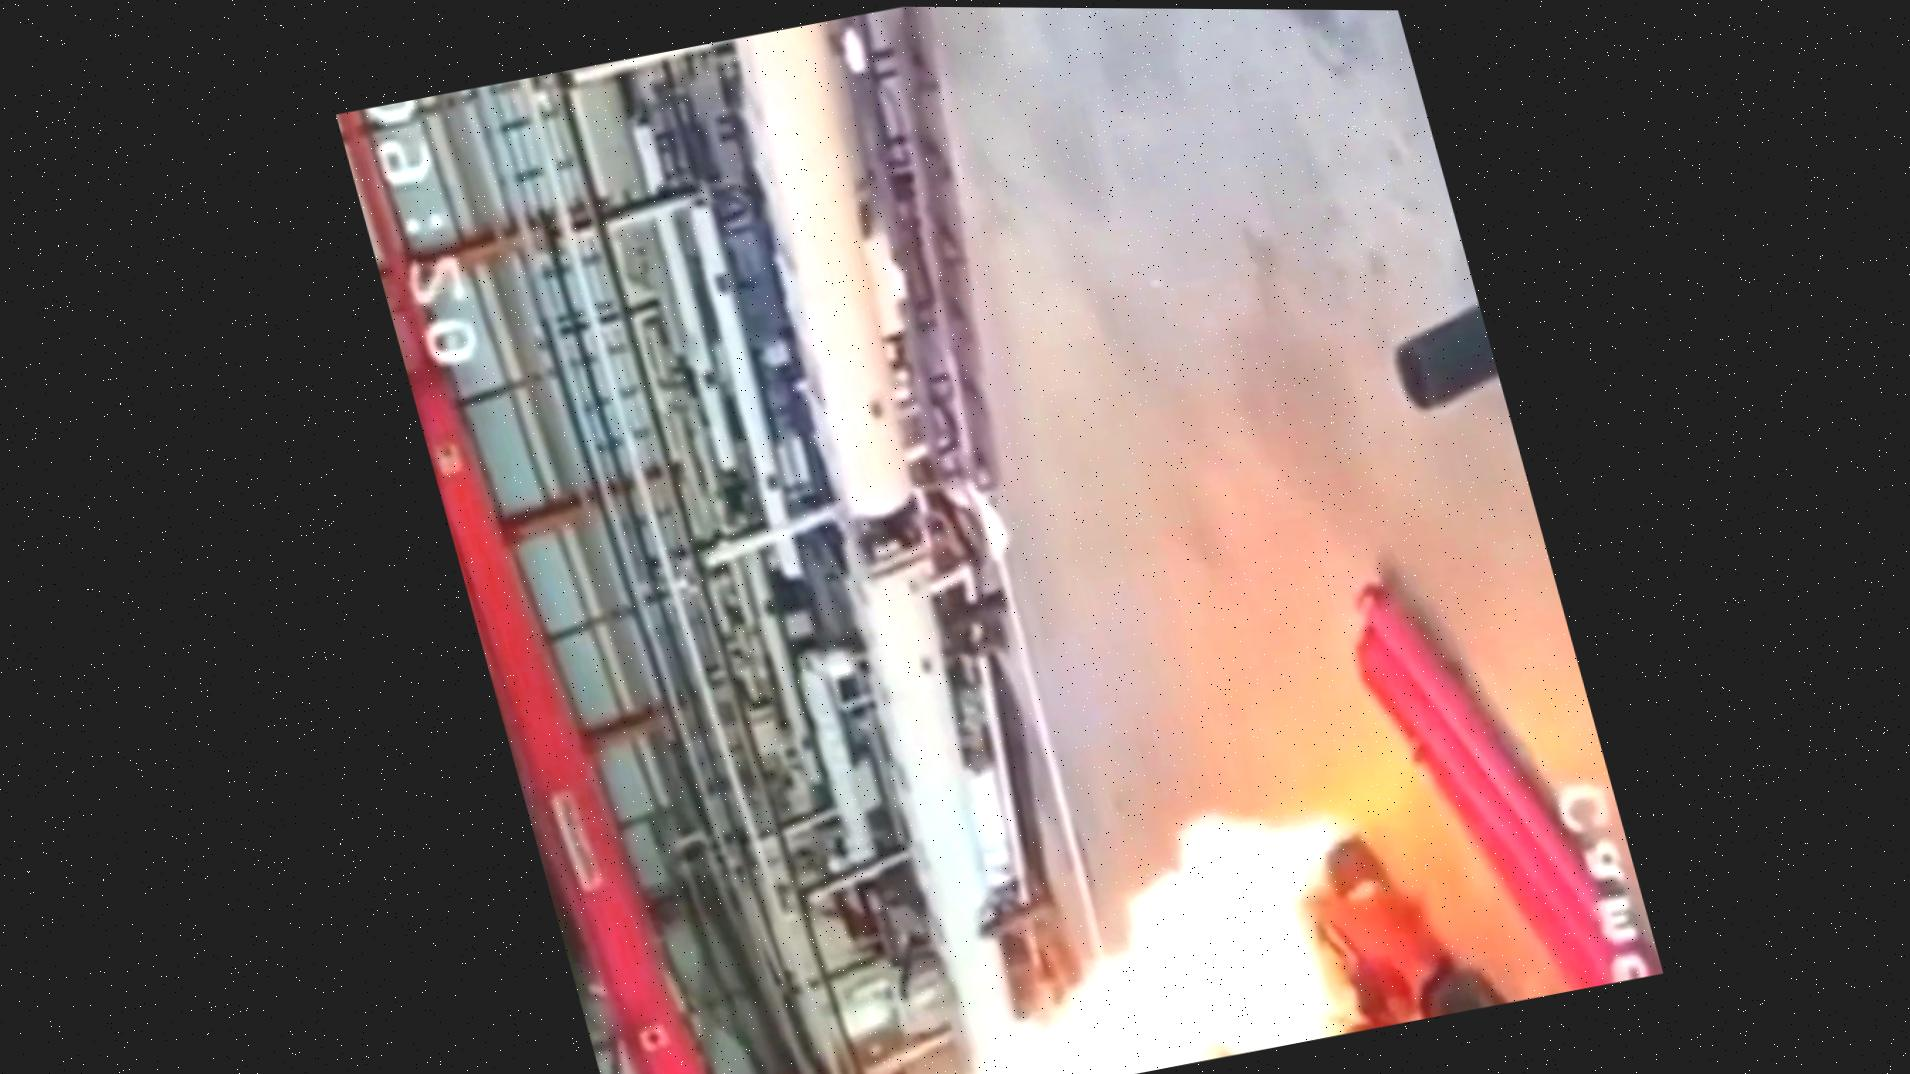fire: (861, 530, 1526, 1074)
